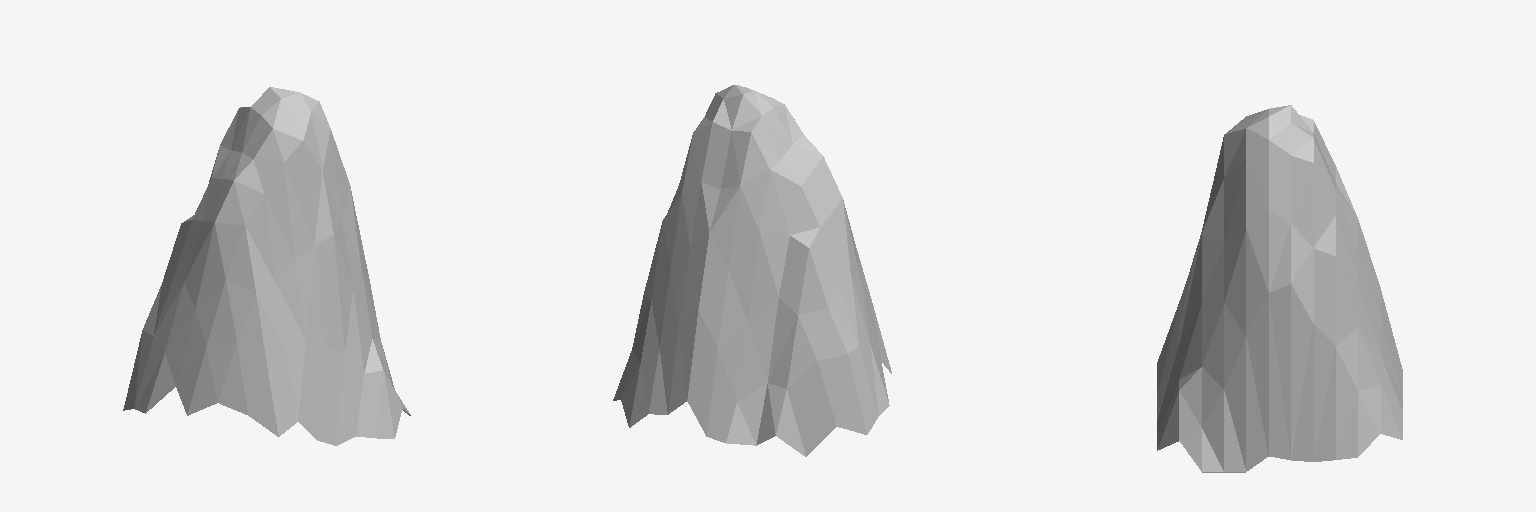
The model's file is tree_10.obj.
3 views of the same model, side by side, from view 1: azimuth 30°, elevation 25°; view 2: azimuth 150°, elevation 25°; view 3: azimuth 270°, elevation 25° (orthographic).
Parts seen in each view (by area): view 1: tree_10; view 2: tree_10; view 3: tree_10.
Part boxes in pixels (x1,y1,x2,y2): tree_10: (123,87,410,445); tree_10: (613,85,891,456); tree_10: (1157,105,1402,472).
Bounding box in the file's own units: 12 × 15.86 × 11.